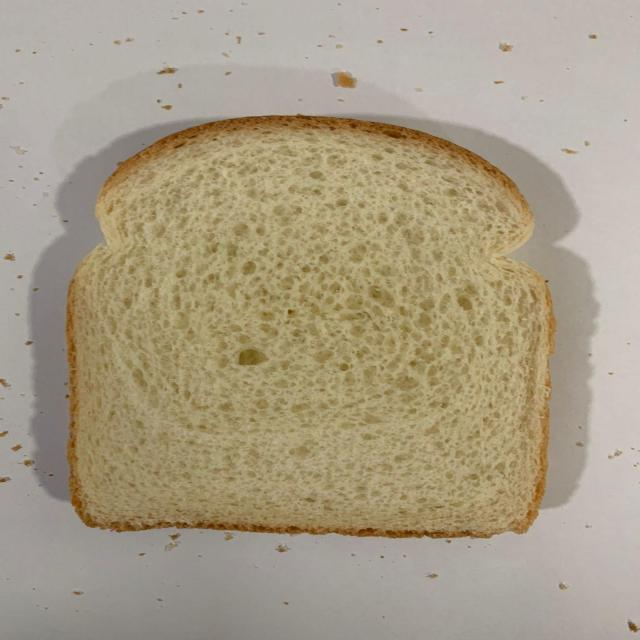pan: (65, 116, 555, 537)
